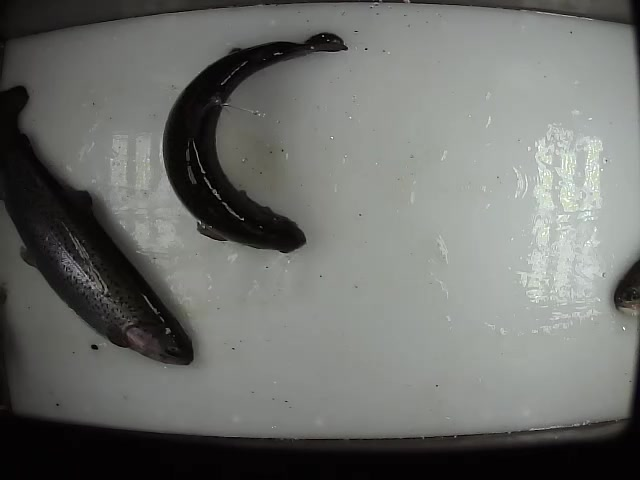fish: (1, 85, 196, 367), (158, 30, 350, 255)
